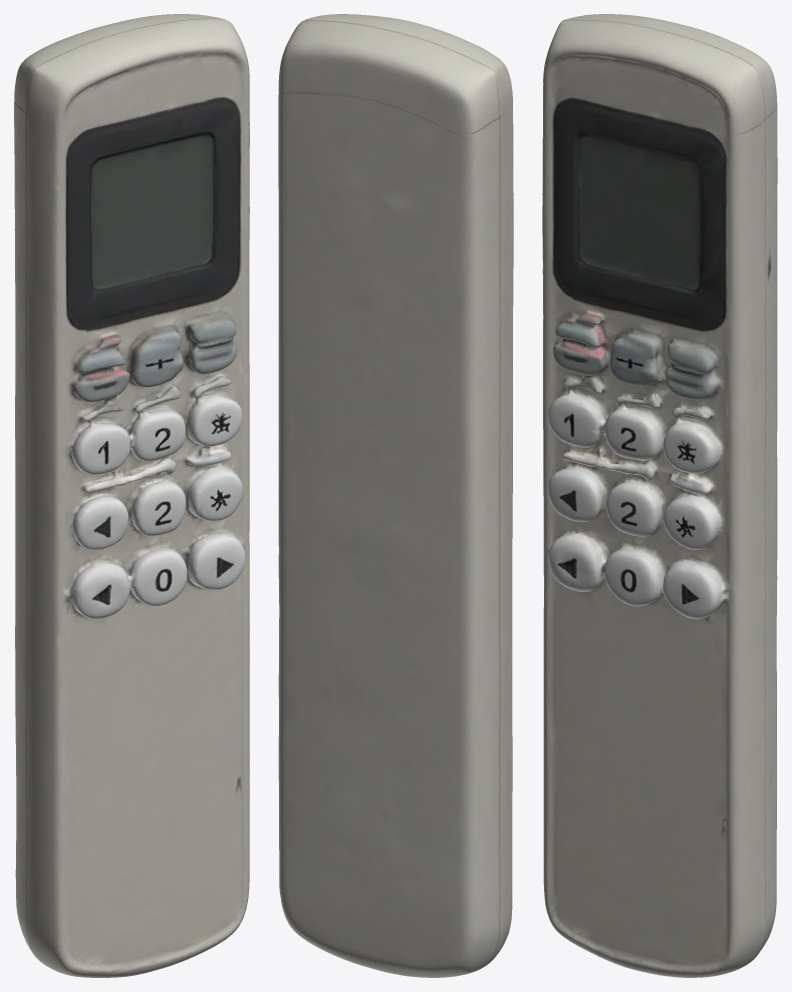
The model's file is remote.glb.
The picture shows the model from 3 angles, left to right: view 1: azimuth 30°, elevation 25°; view 2: azimuth 150°, elevation 25°; view 3: azimuth 330°, elevation 25°; orthographic projection.
Size of the model in its own units: 0.4745 by 2 by 0.2147.
1 material, 1 textured.
